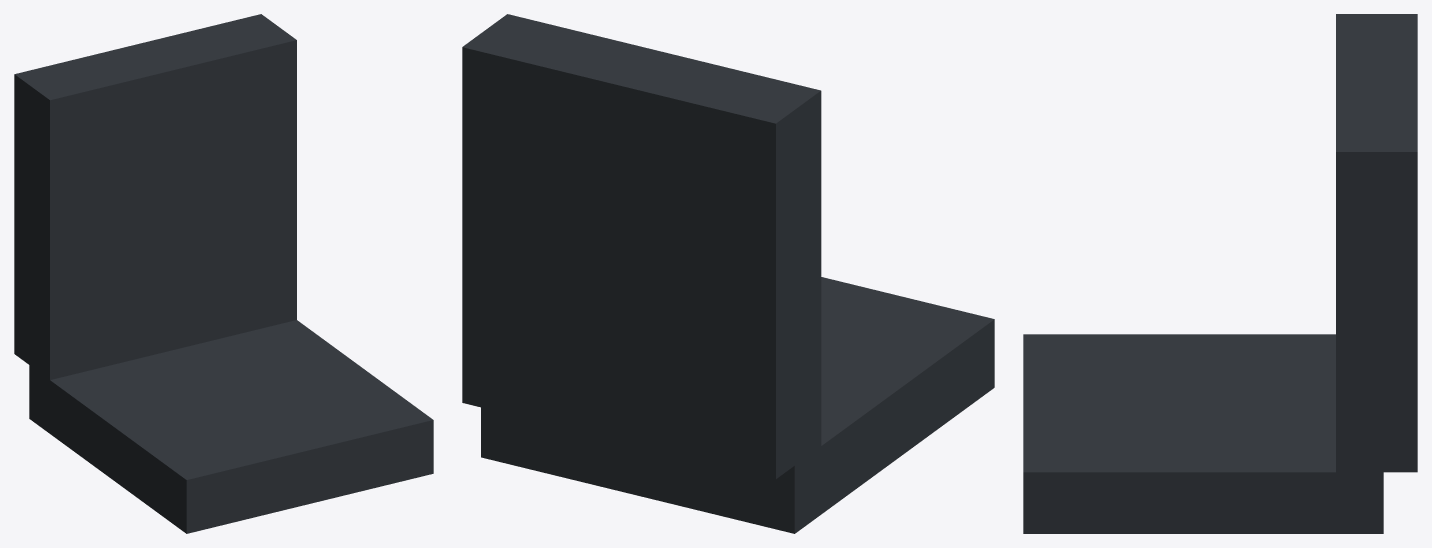
Rendered from seat_driver.glb.
3 views of the same model, side by side, from view 1: azimuth 30°, elevation 25°; view 2: azimuth 150°, elevation 25°; view 3: azimuth 270°, elevation 25° (orthographic). The views are drawn at different scales.
Parts seen in each view (by area): view 1: seat_driver; view 2: seat_driver; view 3: seat_driver.
Part boxes in pixels (x1=…): seat_driver: x1=14, y1=14, x2=433, y2=533; seat_driver: x1=462, y1=14, x2=994, y2=533; seat_driver: x1=1023, y1=14, x2=1417, y2=533.
Size of the model in its own units: 0.48 by 0.62 by 0.58.
1 material, 1 textured.
